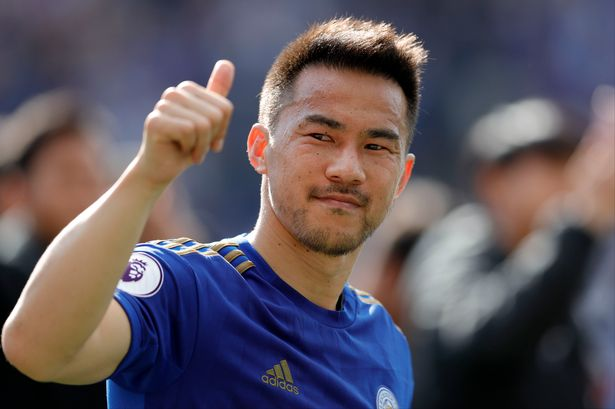thumbsUp: (134, 46, 239, 186)
